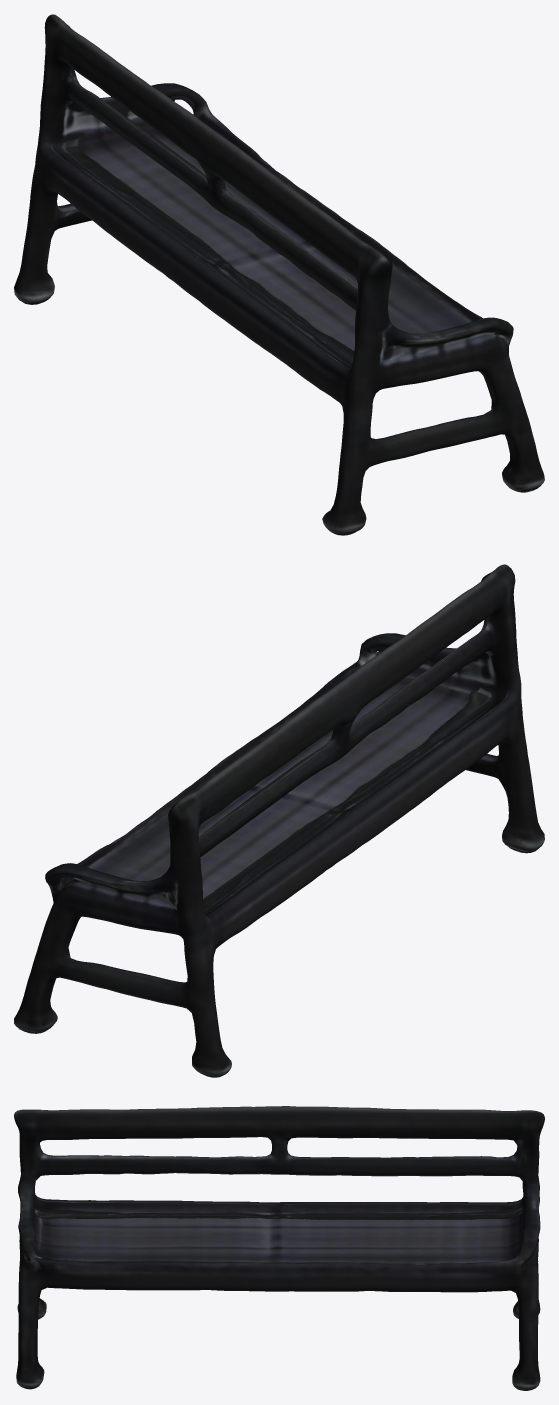
File: _iron_bench__3d_asse.obj
3 views of the same model, one above another, from view 1: azimuth 30°, elevation 25°; view 2: azimuth 150°, elevation 25°; view 3: azimuth 270°, elevation 25° (orthographic). The views are drawn at different scales.
Visible parts, largest first — view 1: mesh; view 2: mesh; view 3: mesh.
Part boxes in pixels (x1,y1,x2,y2): mesh: (14,14,544,535); mesh: (14,564,544,1077); mesh: (14,1106,544,1390).
Bounding box in the file's own units: 0.3731 × 0.4602 × 0.9974.
